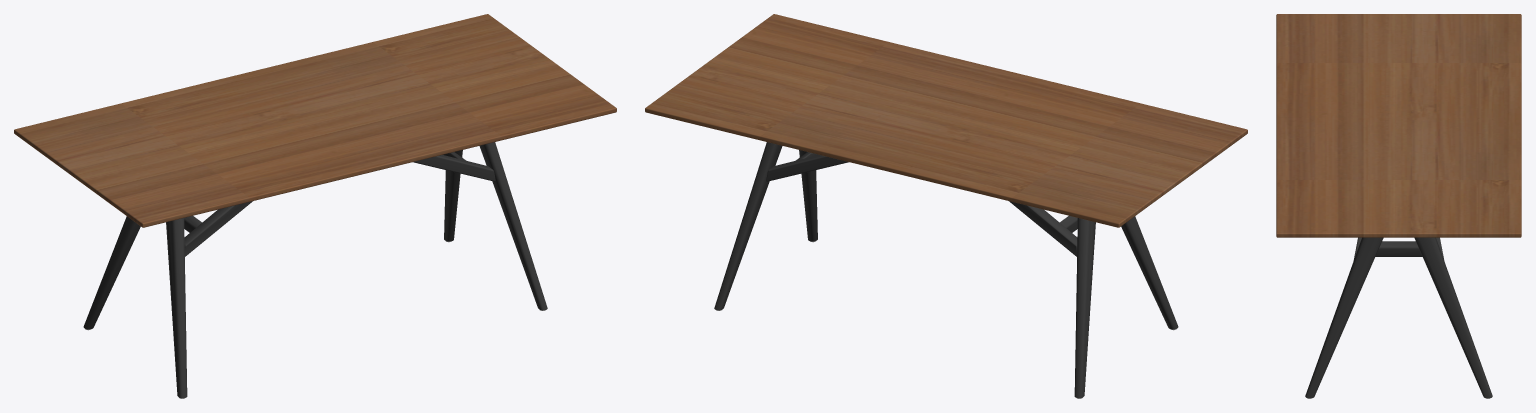
The model's file is modern_table.gltf.
3 renders of one model, left to right at view 1: azimuth 30°, elevation 25°; view 2: azimuth 150°, elevation 25°; view 3: azimuth 270°, elevation 25°, orthographic. The views are drawn at different scales.
Parts seen in each view (by area): view 1: Modern_Table; view 2: Modern_Table; view 3: Modern_Table.
Boxes of the visible parts, <box> form: Modern_Table: <box>14,14,616,398</box>; Modern_Table: <box>645,14,1247,398</box>; Modern_Table: <box>1276,14,1521,398</box>.
Size of the model in its own units: 1.93 by 0.7798 by 0.9093.
Materials: 3 (1 with a texture image).
